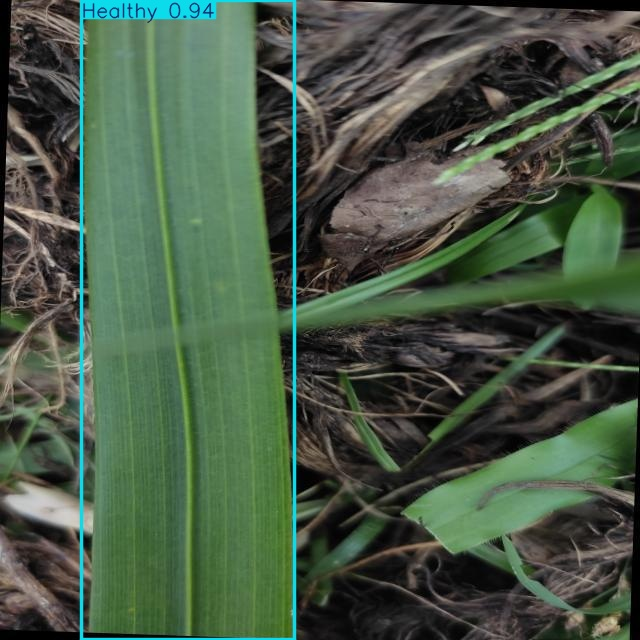Healthy: (82, 0, 295, 639)
